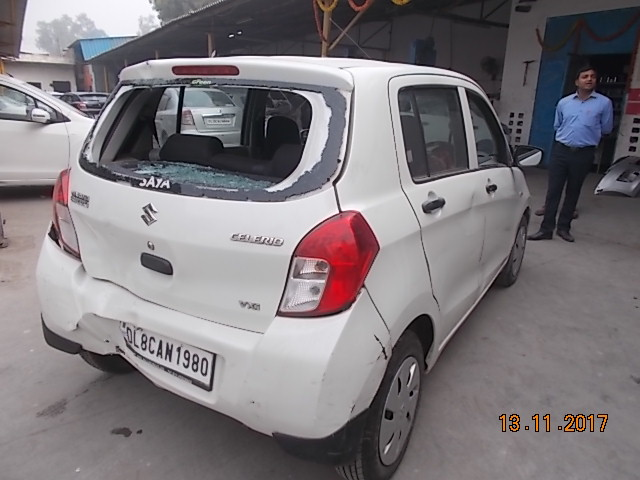Dent: (71, 311, 144, 363)
Scratch_or_spot: (373, 332, 386, 361)
